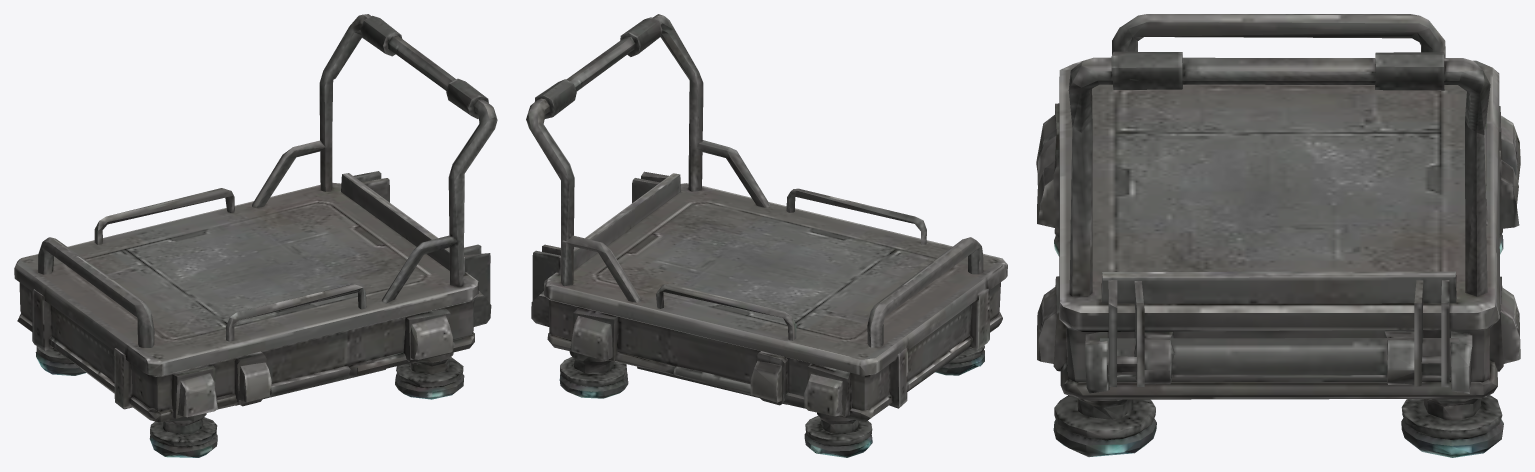
The model's file is prop.hover_cart.glb.
3 renders of one model, left to right at view 1: azimuth 30°, elevation 25°; view 2: azimuth 150°, elevation 25°; view 3: azimuth 270°, elevation 25°, orthographic. The views are drawn at different scales.
Parts seen in each view (by area): view 1: body; view 2: body; view 3: body.
Part boxes in pixels (x1,y1,x2,y2): body: (14,14,497,457); body: (526,14,1007,457); body: (1036,14,1520,457).
Bounding box in the file's own units: 1 × 0.7504 × 0.7688.
1 material, 1 textured.
